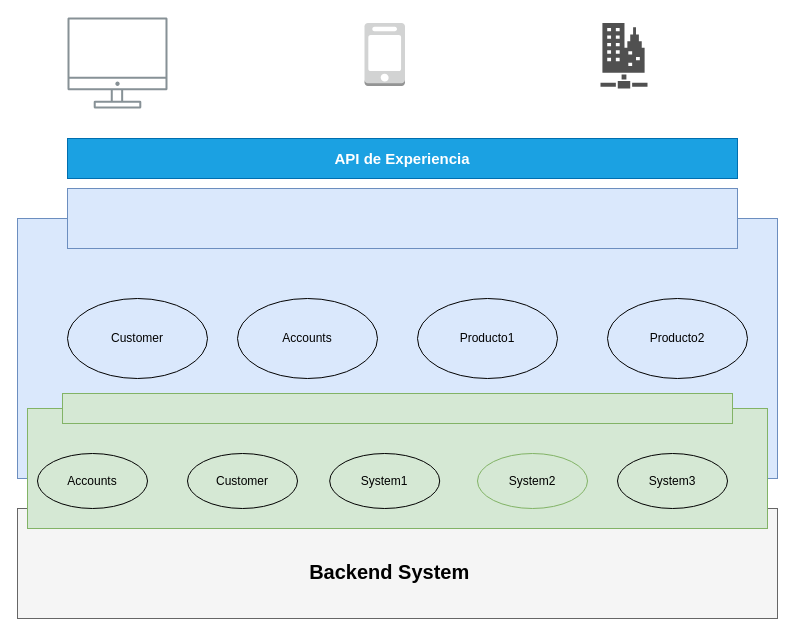
Image size: 795x636. Some labels were removed from this diagram. The box of each missing label's shape, as (x1, y1, x2, y2) in pixels:
API de BaaS: (66, 188, 738, 248)
API de Sistema: (62, 392, 732, 424)
MOBILE: (364, 22, 405, 86)
TERCEROS: (600, 22, 647, 88)
WEB: (67, 17, 167, 108)
